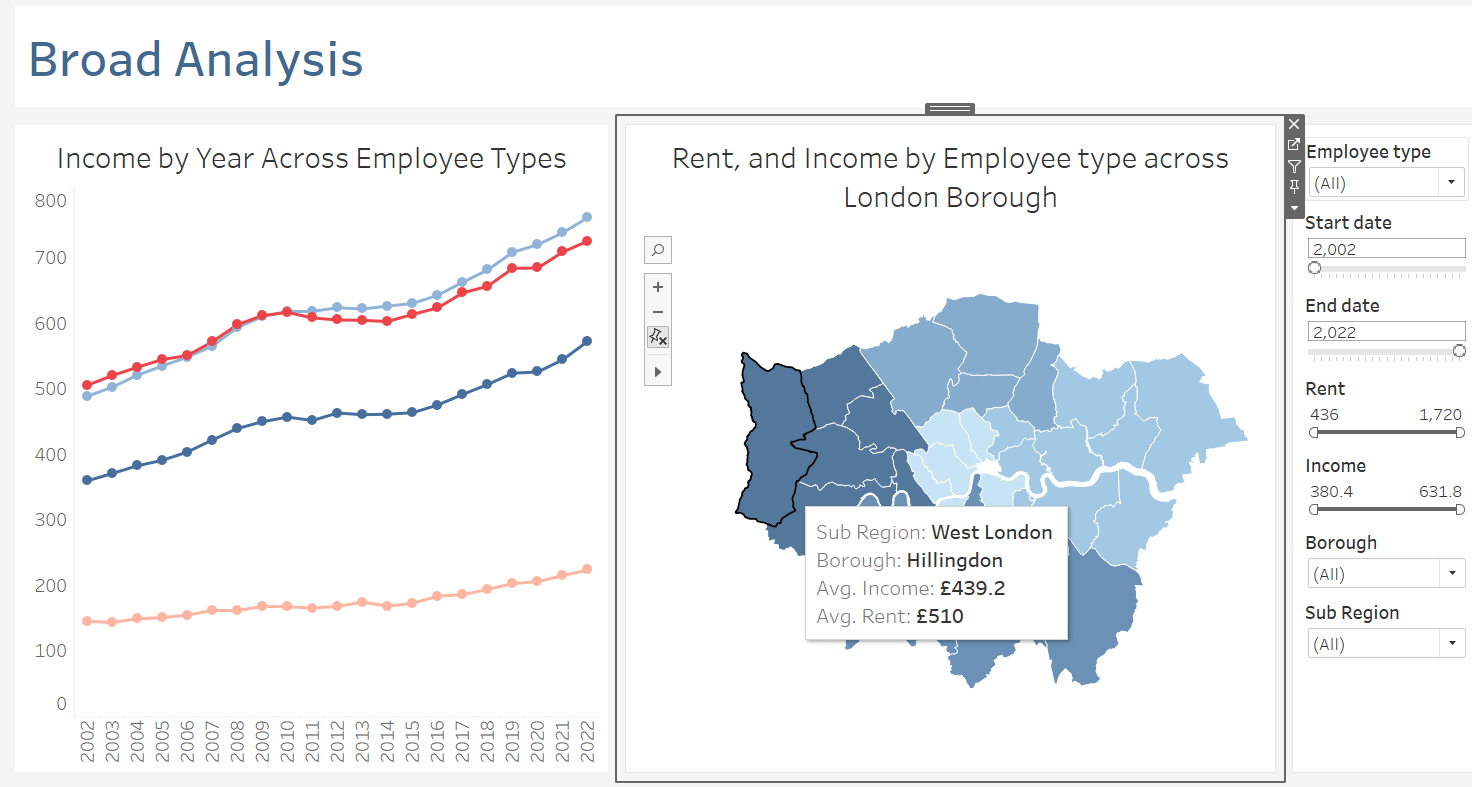

The page's visual inventory and layout, read from the dashboard file:
{"tool":"tableau","page":{"name":"Dashboard 2","canvas":[1500,800],"ordinal":1},"visuals":[{"type":"text","box":[8,8,1484,119]},{"type":"worksheet","title":"Income by Year","mark":"Automatic","rows":["Pay (£)","Pay (£)"],"cols":["Year"],"box":[8,127,611,665]},{"type":"worksheet","title":"Map","mark":"Multipolygon","box":[619,127,667,665]},{"type":"filter","title":"Income by Year","param":"[federated.0mtfeyj0am8fze13vt68h0kjogjt].[none:Table Name:nk]","box":[1303,144,172,72]},{"type":"parameter","param":"[Parameters].[Parameter 1]","box":[1303,216,172,83]},{"type":"parameter","param":"[Parameters].[Parameter 2]","box":[1303,299,172,83]},{"type":"filter","title":"Map","param":"[federated.0mtfeyj0am8fze13vt68h0kjogjt].[avg:Price_weekly:qk]","box":[1303,382,172,77]},{"type":"filter","title":"Map","param":"[federated.0mtfeyj0am8fze13vt68h0kjogjt].[avg:Pay (£):qk]","box":[1303,459,172,77]},{"type":"filter","title":"Map","param":"[federated.0mtfeyj0am8fze13vt68h0kjogjt].[none:Borough:nk]","box":[1303,536,172,70]},{"type":"filter","title":"Map","param":"[federated.0mtfeyj0am8fze13vt68h0kjogjt].[Borough (group)]","box":[1303,606,172,70]}]}

Visuals, with their boxes in screenshot pixels (x1, y1, x2, y2), scaled from the page's 1500x800 canvas onto the 1472x787 screenshot:
text: box=[8, 8, 1464, 125]
"Income by Year" worksheet: box=[8, 125, 607, 779]
"Map" worksheet (Multipolygon marks): box=[607, 125, 1262, 779]
"Income by Year" filter: box=[1279, 142, 1447, 212]
parameter: box=[1279, 212, 1447, 294]
parameter: box=[1279, 294, 1447, 376]
"Map" filter: box=[1279, 376, 1447, 452]
"Map" filter: box=[1279, 452, 1447, 527]
"Map" filter: box=[1279, 527, 1447, 596]
"Map" filter: box=[1279, 596, 1447, 665]
